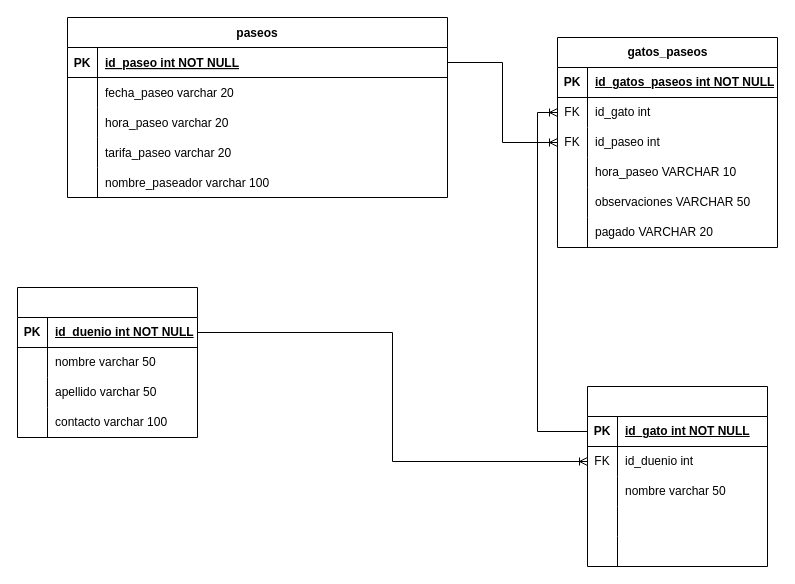
Some shapes in this 795 by 584 pixel diagram are drawn without their labels. Here are the shapes that lost their labels. From the top down, the box of each, then its label:
(16, 286, 198, 438): duenios
(586, 386, 768, 566): gatos
